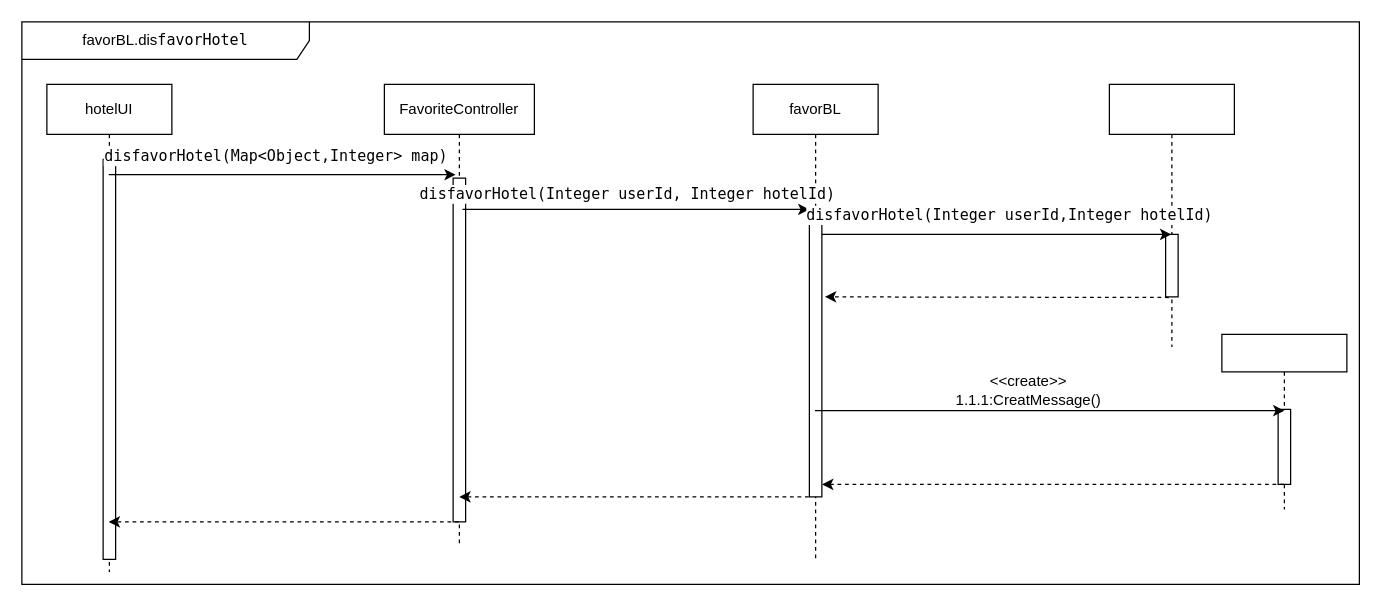
The diagram is 1381 pixels wide and 606 high, and some of its shapes have lost their labels. Here are the shapes that lost their labels. From the top down, the box of each, then its label:
(1108, 83, 1234, 347): FavoriteMapper
(1221, 333, 1347, 509): ResponseVO
